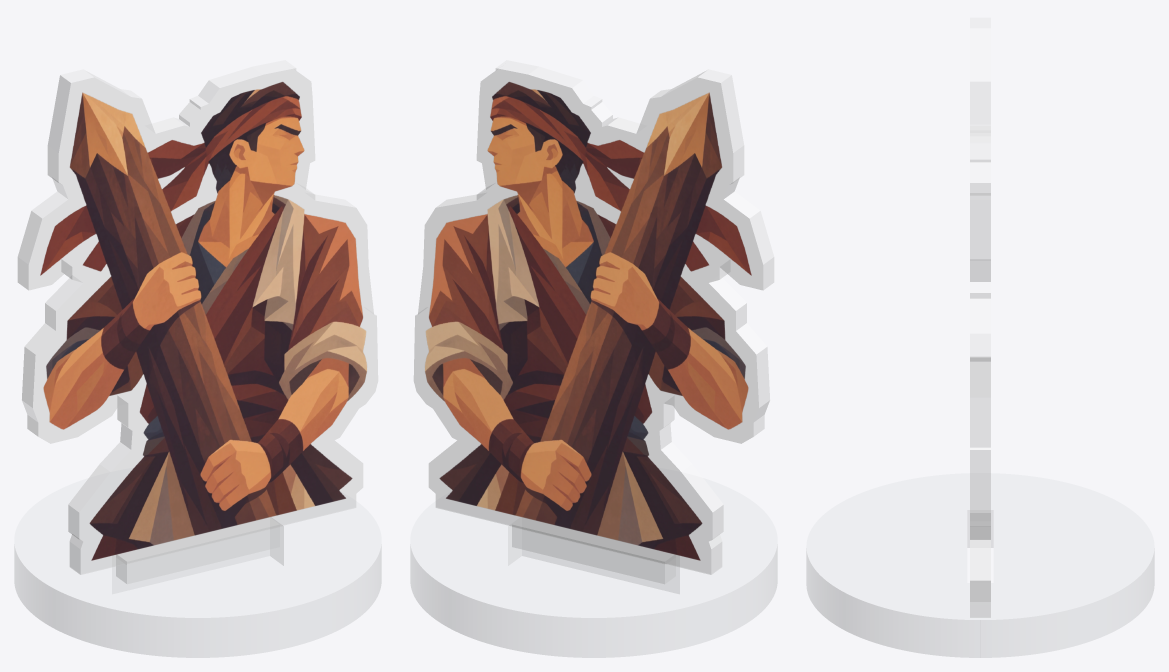
The model's file is nha-binh.glb.
The picture shows the model from 3 angles, left to right: view 1: azimuth 30°, elevation 25°; view 2: azimuth 150°, elevation 25°; view 3: azimuth 270°, elevation 25°; orthographic projection. The views are drawn at different scales.
Parts seen in each view (by area): view 1: ArtworkFront, RoundBaseWithSlot, AcrylicSilhouette, InsertTab; view 2: ArtworkBack, RoundBaseWithSlot, AcrylicSilhouette, InsertTab; view 3: RoundBaseWithSlot, AcrylicSilhouette, InsertTab.
Boxes of the visible parts, <box> form: ArtworkFront: <box>40,82,367,560</box>; RoundBaseWithSlot: <box>14,468,381,657</box>; AcrylicSilhouette: <box>18,60,377,574</box>; InsertTab: <box>116,517,279,583</box>; ArtworkBack: <box>424,82,751,560</box>; RoundBaseWithSlot: <box>410,468,777,657</box>; AcrylicSilhouette: <box>414,60,773,574</box>; InsertTab: <box>512,517,675,583</box>; RoundBaseWithSlot: <box>806,473,1154,657</box>; AcrylicSilhouette: <box>970,18,990,617</box>; InsertTab: <box>970,510,990,601</box>.
Bounding box in the file's own units: 27.46 × 40.06 × 25.
Materials: 5 (2 with a texture image).
